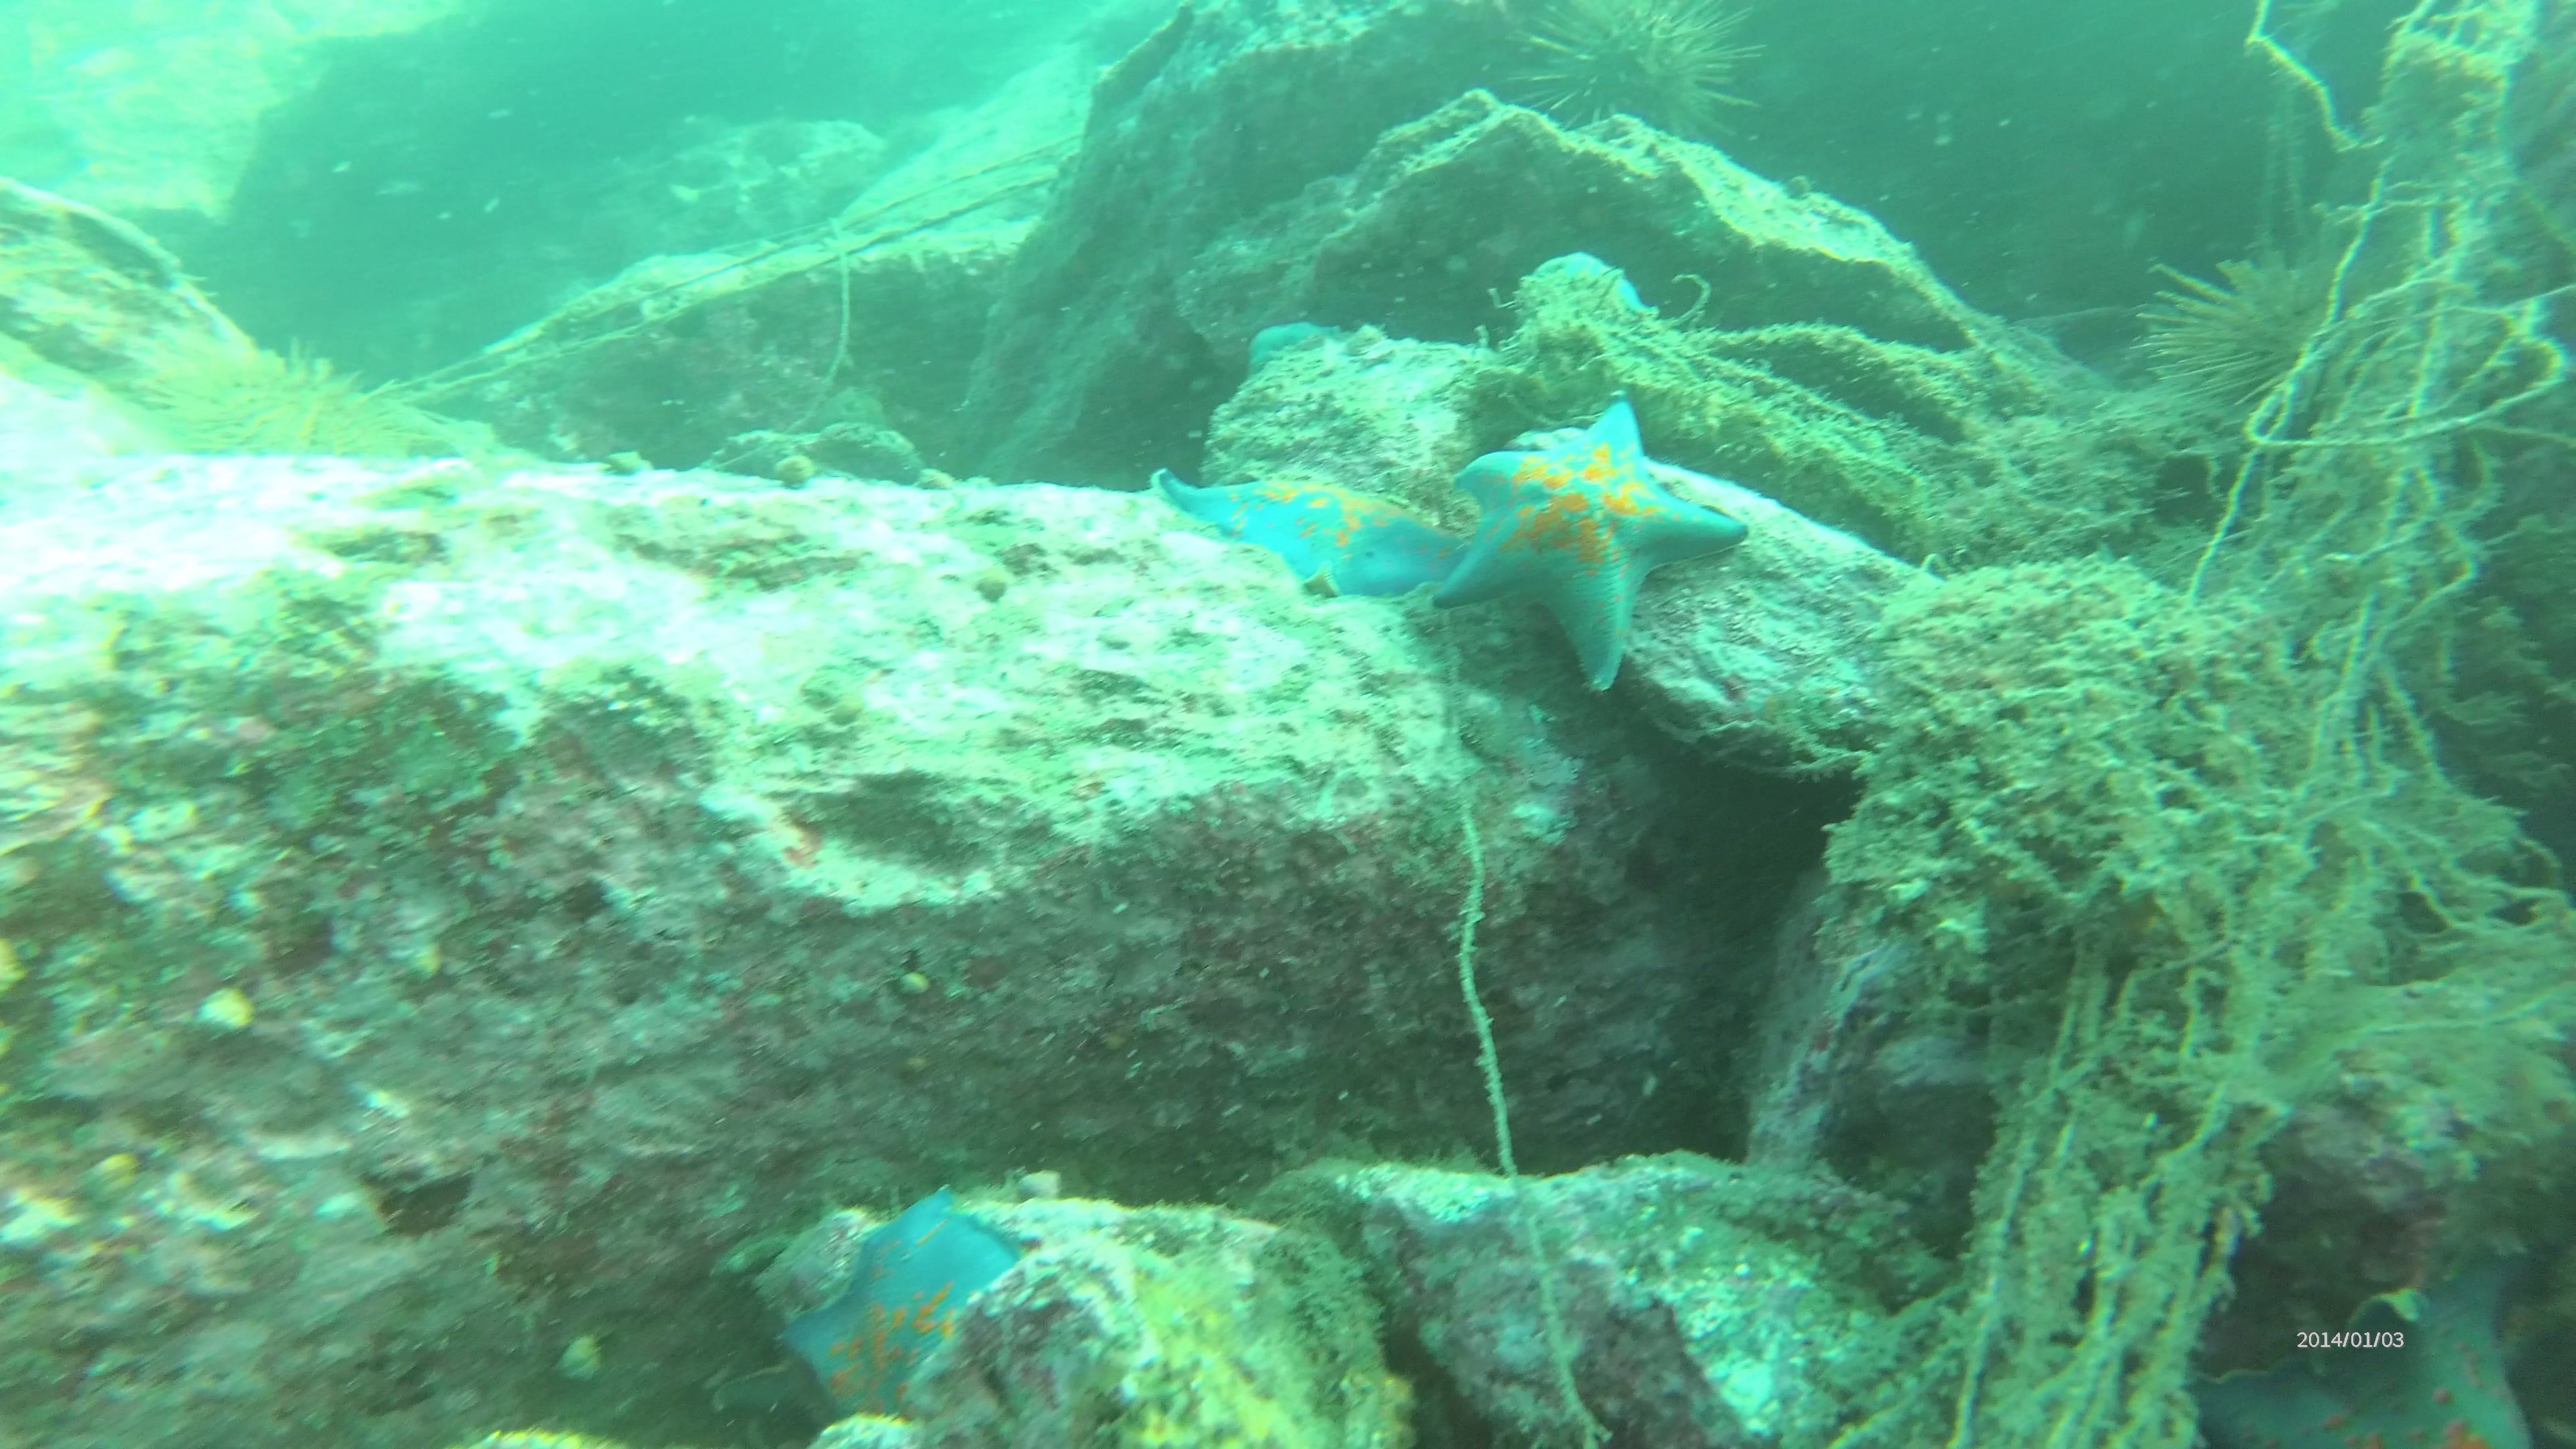echinus: (1497, 0, 1759, 179), (2134, 239, 2385, 419)
starfish: (1431, 391, 1753, 692), (2167, 1224, 2576, 1449), (782, 1189, 1069, 1435), (1154, 455, 1504, 612), (1532, 242, 1663, 331)
